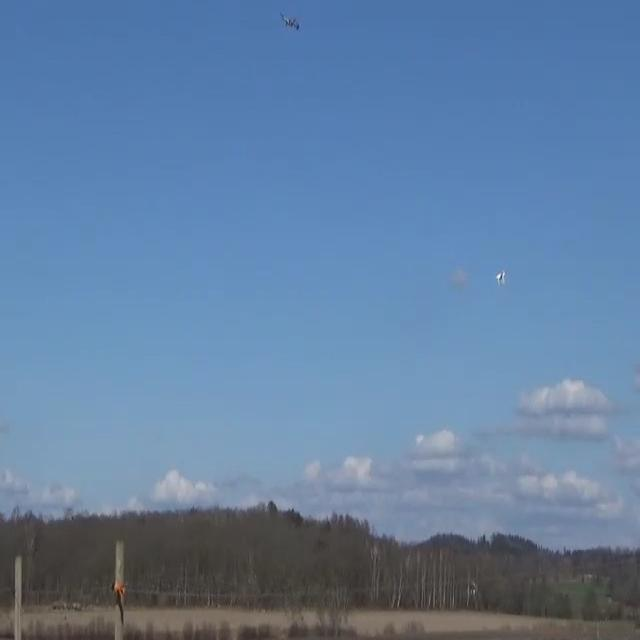drone: (279, 11, 299, 30), (495, 269, 505, 286)
